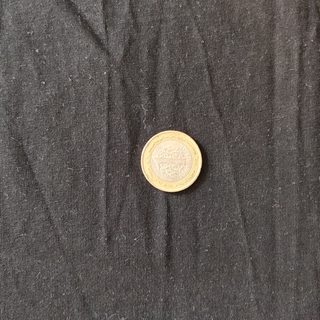1TL: (139, 128, 205, 194)
